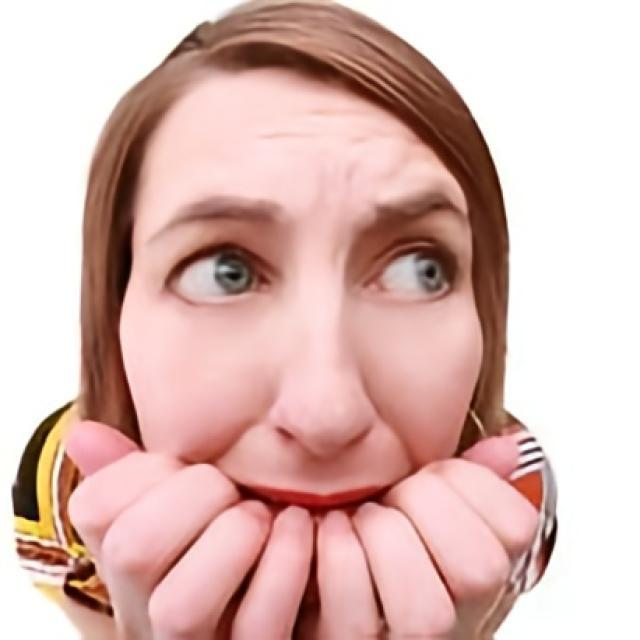fear: (119, 61, 486, 610)
